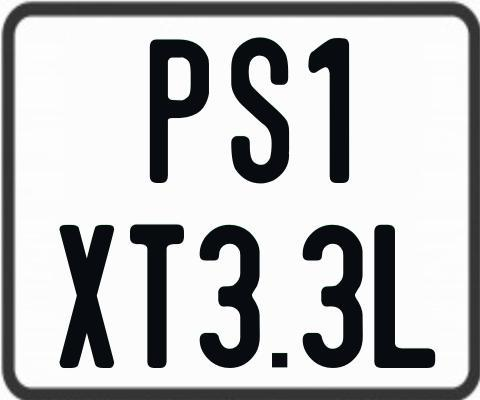1: (307, 35, 354, 182)
3: (200, 224, 262, 367), (302, 224, 362, 367)
L: (372, 224, 437, 369)
P: (147, 38, 210, 184)
S: (229, 34, 291, 181)
T: (129, 223, 189, 373)
X: (58, 222, 112, 369)
